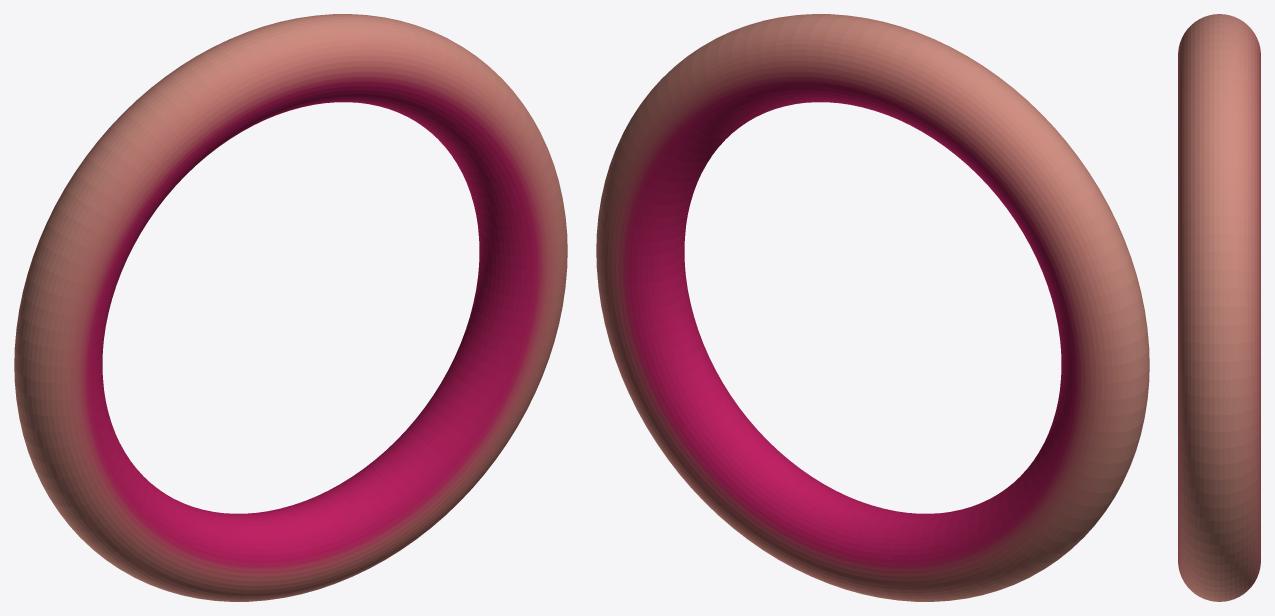
3 views of the same model, side by side, from view 1: azimuth 30°, elevation 25°; view 2: azimuth 150°, elevation 25°; view 3: azimuth 270°, elevation 25° (orthographic). The views are drawn at different scales.
Parts seen in each view (by area): view 1: world; view 2: world; view 3: world.
Boxes of the visible parts, x1,y1,x2,y2 form: world: (14, 14, 567, 601); world: (596, 14, 1149, 601); world: (1178, 14, 1260, 601).
Size of the model in its own units: 21.73 by 21.73 by 3.06.
